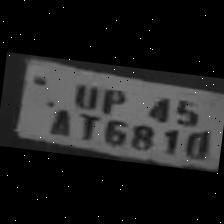0: (178, 124, 214, 160)
1: (154, 122, 182, 154)
4: (138, 90, 174, 123)
5: (170, 94, 202, 126)
6: (97, 115, 128, 147)
8: (125, 119, 158, 151)
A: (41, 101, 76, 135)
P: (94, 82, 129, 114)
T: (70, 109, 100, 141)
U: (66, 78, 102, 109)
